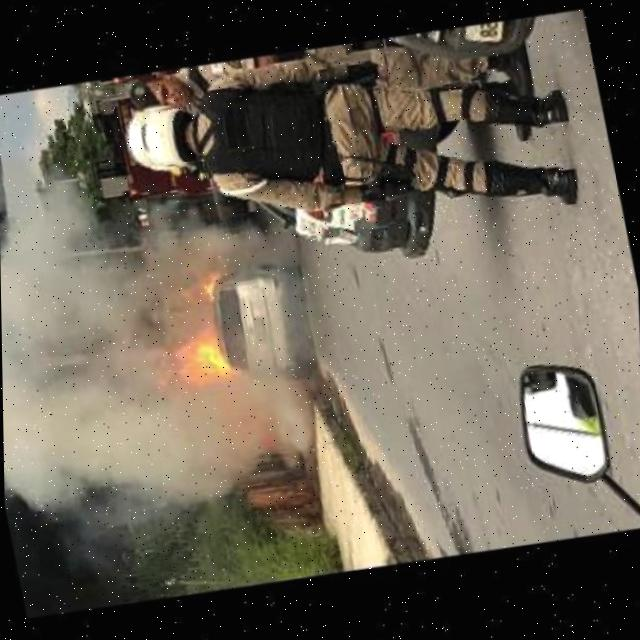fire: (150, 333, 234, 395)
